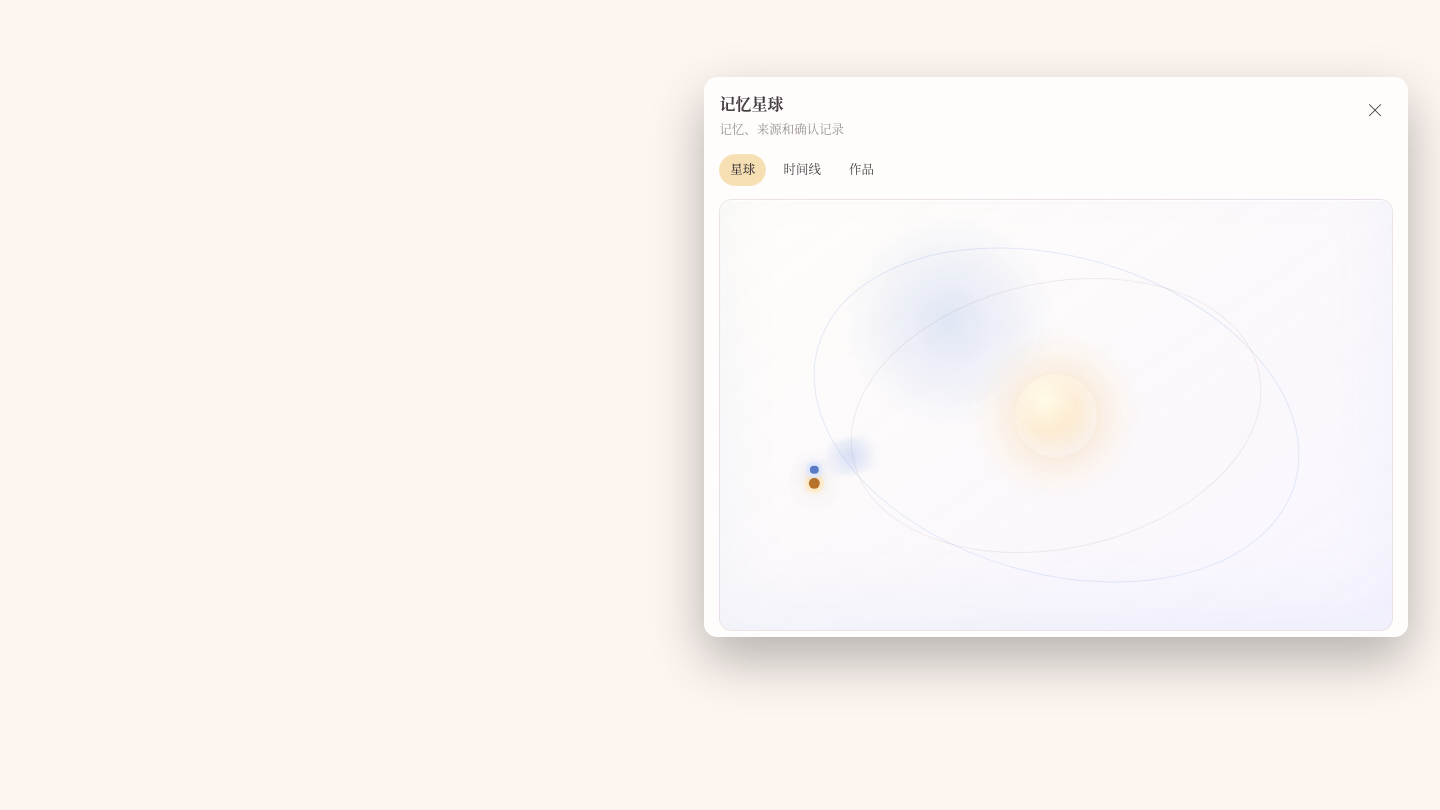
Test: MemoryPlanetPanel › switches between planet, timeline, and works views
Click the button with aria-label "查看星球时间线": (802,170) x1=772 y1=154 x2=832 y2=186
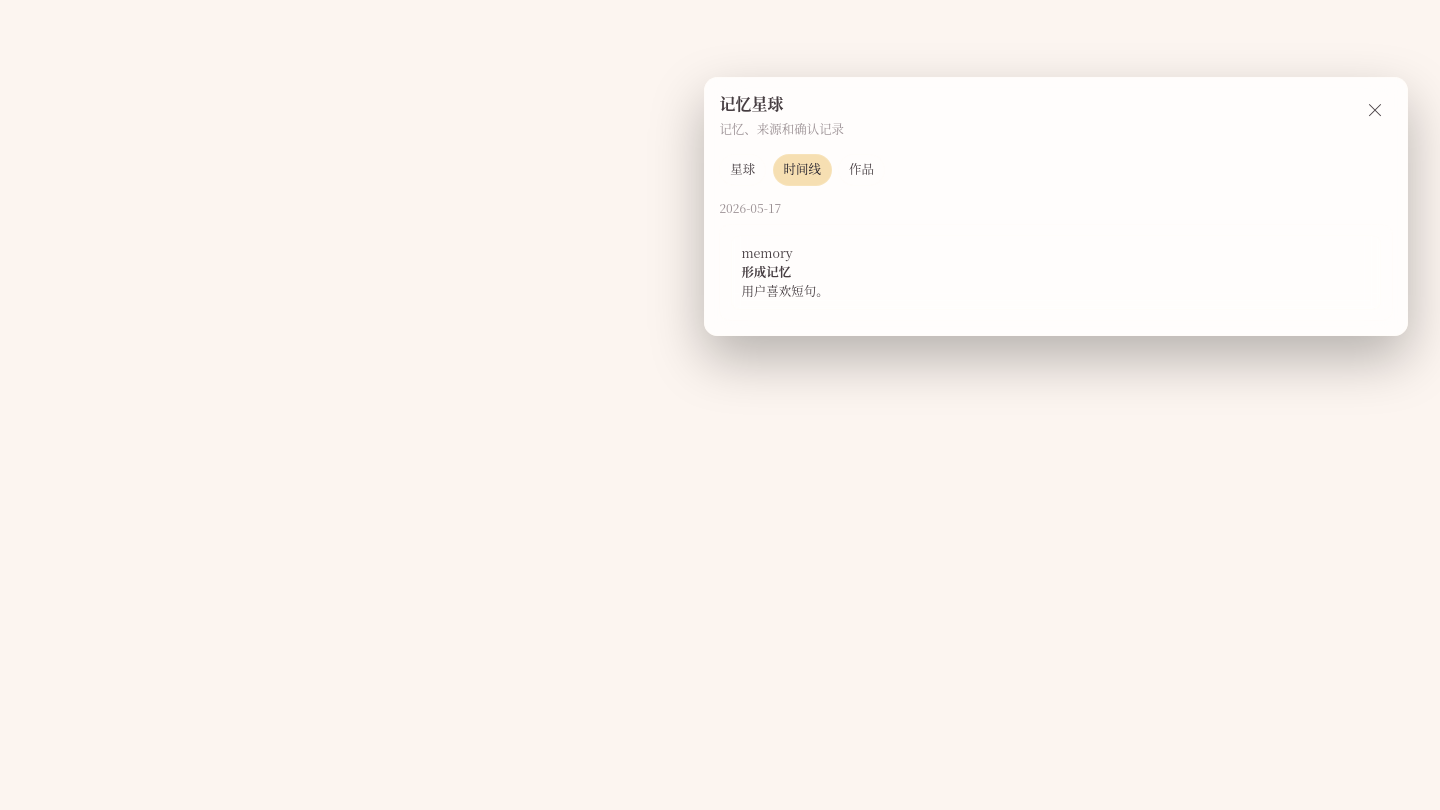
expect the text "形成记忆" is shown: met, box x1=741 y1=263 x2=791 y2=282
Click the button with aria-label "查看智能体作品": (862,170) x1=838 y1=154 x2=885 y2=186
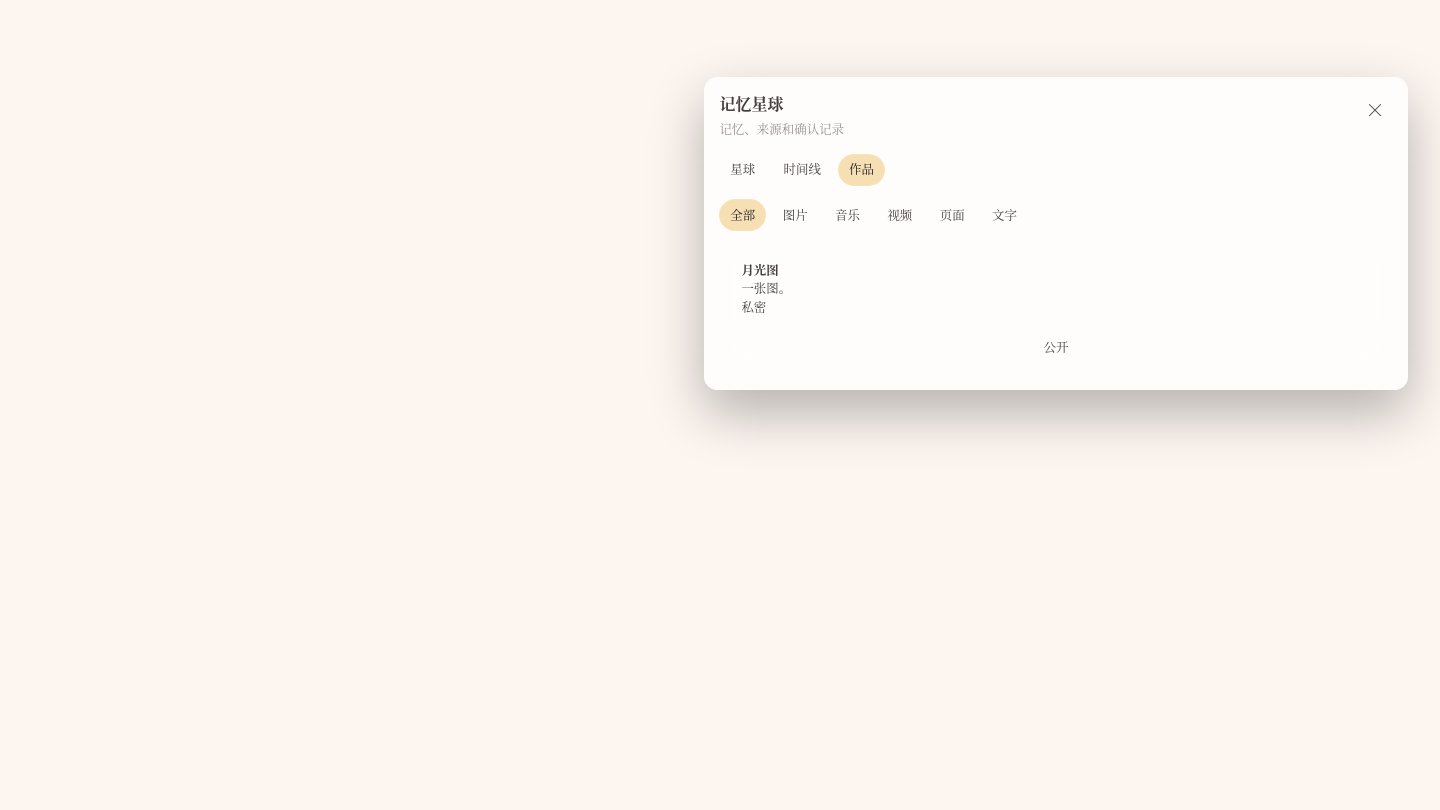
expect the text "月光图" is shown: met, box x1=741 y1=261 x2=779 y2=279
